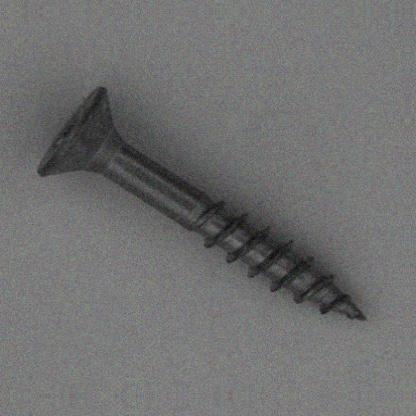metal: (37, 85, 368, 324)
